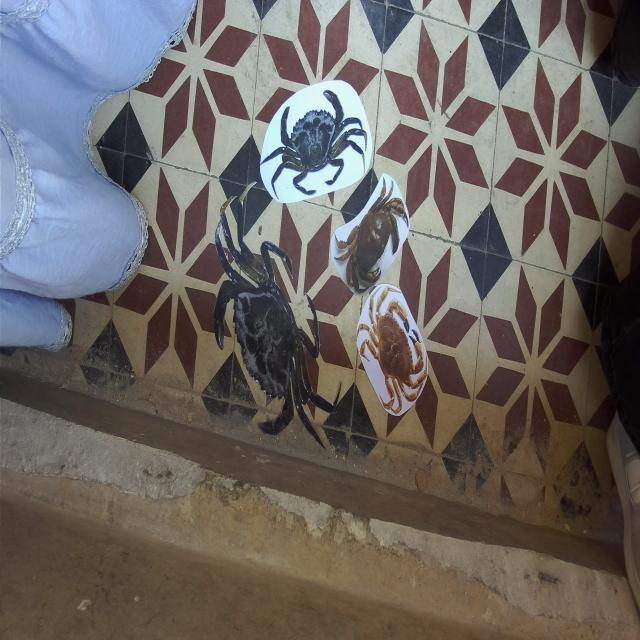European_Green_Crab: (181, 165, 360, 503), (254, 77, 371, 212)
